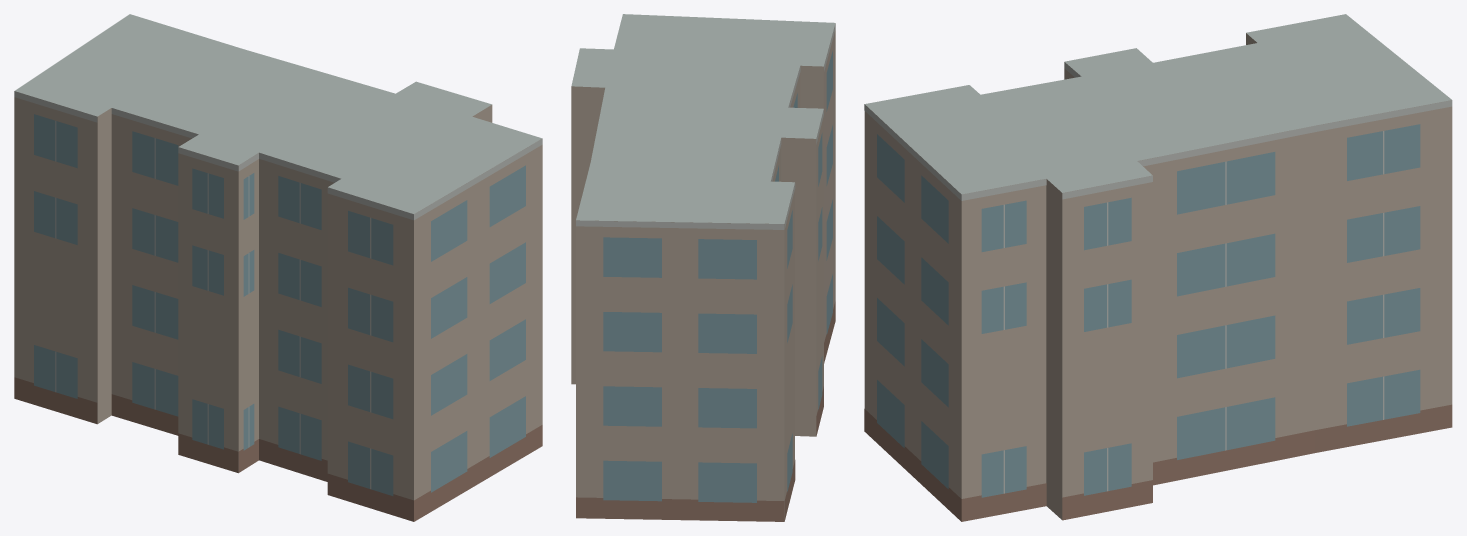
The model's file is survey-upis-32738192.glb.
3 views of the same model, side by side, from view 1: azimuth 30°, elevation 25°; view 2: azimuth 150°, elevation 25°; view 3: azimuth 270°, elevation 25° (orthographic). The views are drawn at different scales.
Visible parts, largest first — view 1: survey-upis-32738192.tmp; view 2: survey-upis-32738192.tmp; view 3: survey-upis-32738192.tmp.
Part boxes in pixels (left/top/right/bottom): survey-upis-32738192.tmp: left=14, top=14, right=542, bottom=521; survey-upis-32738192.tmp: left=571, top=14, right=835, bottom=521; survey-upis-32738192.tmp: left=864, top=14, right=1452, bottom=521.
Bounding box in the file's own units: 14.43 × 12.2 × 19.86.
